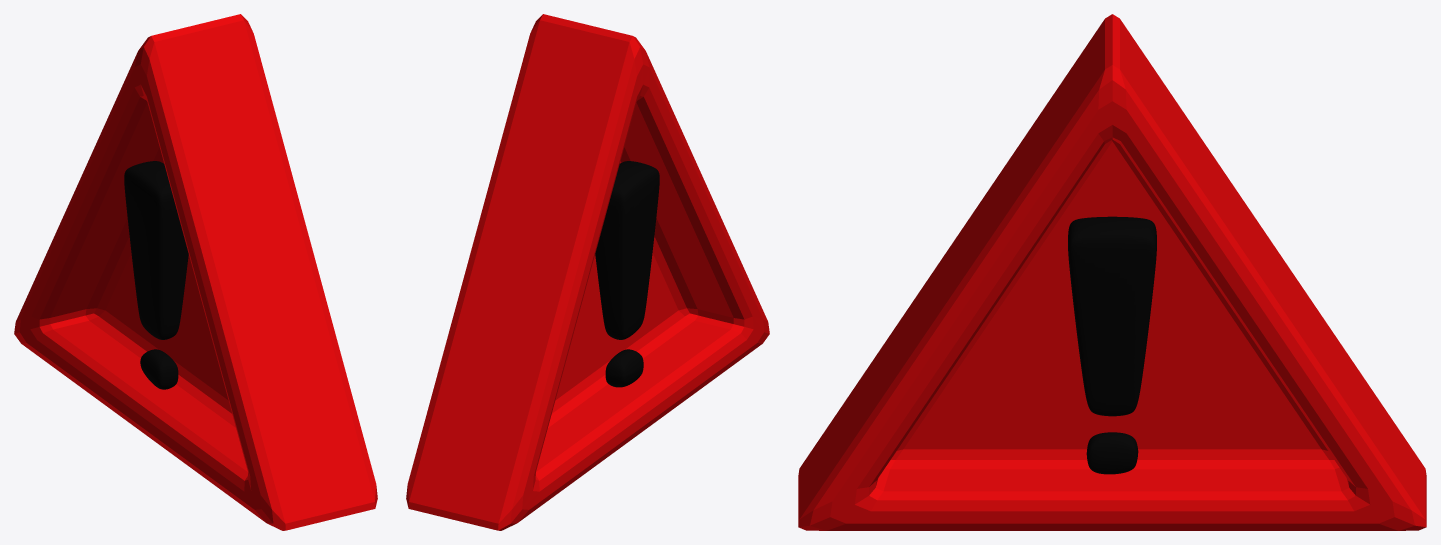
The model's file is caution.glb.
3 views of the same model, side by side, from view 1: azimuth 30°, elevation 25°; view 2: azimuth 150°, elevation 25°; view 3: azimuth 270°, elevation 25° (orthographic). The views are drawn at different scales.
Visible parts, largest first — view 1: Plane, Cube.001; view 2: Plane, Cube.001; view 3: Plane, Cube.
Part boxes in pixels (bbox=[...]): Plane: bbox=[14, 14, 377, 530]; Cube.001: bbox=[124, 161, 188, 389]; Plane: bbox=[406, 14, 769, 530]; Cube.001: bbox=[595, 161, 659, 387]; Plane: bbox=[798, 14, 1426, 530]; Cube: bbox=[1068, 216, 1156, 474].
Size of the model in its own units: 0.4799 by 1.6 by 1.96.
